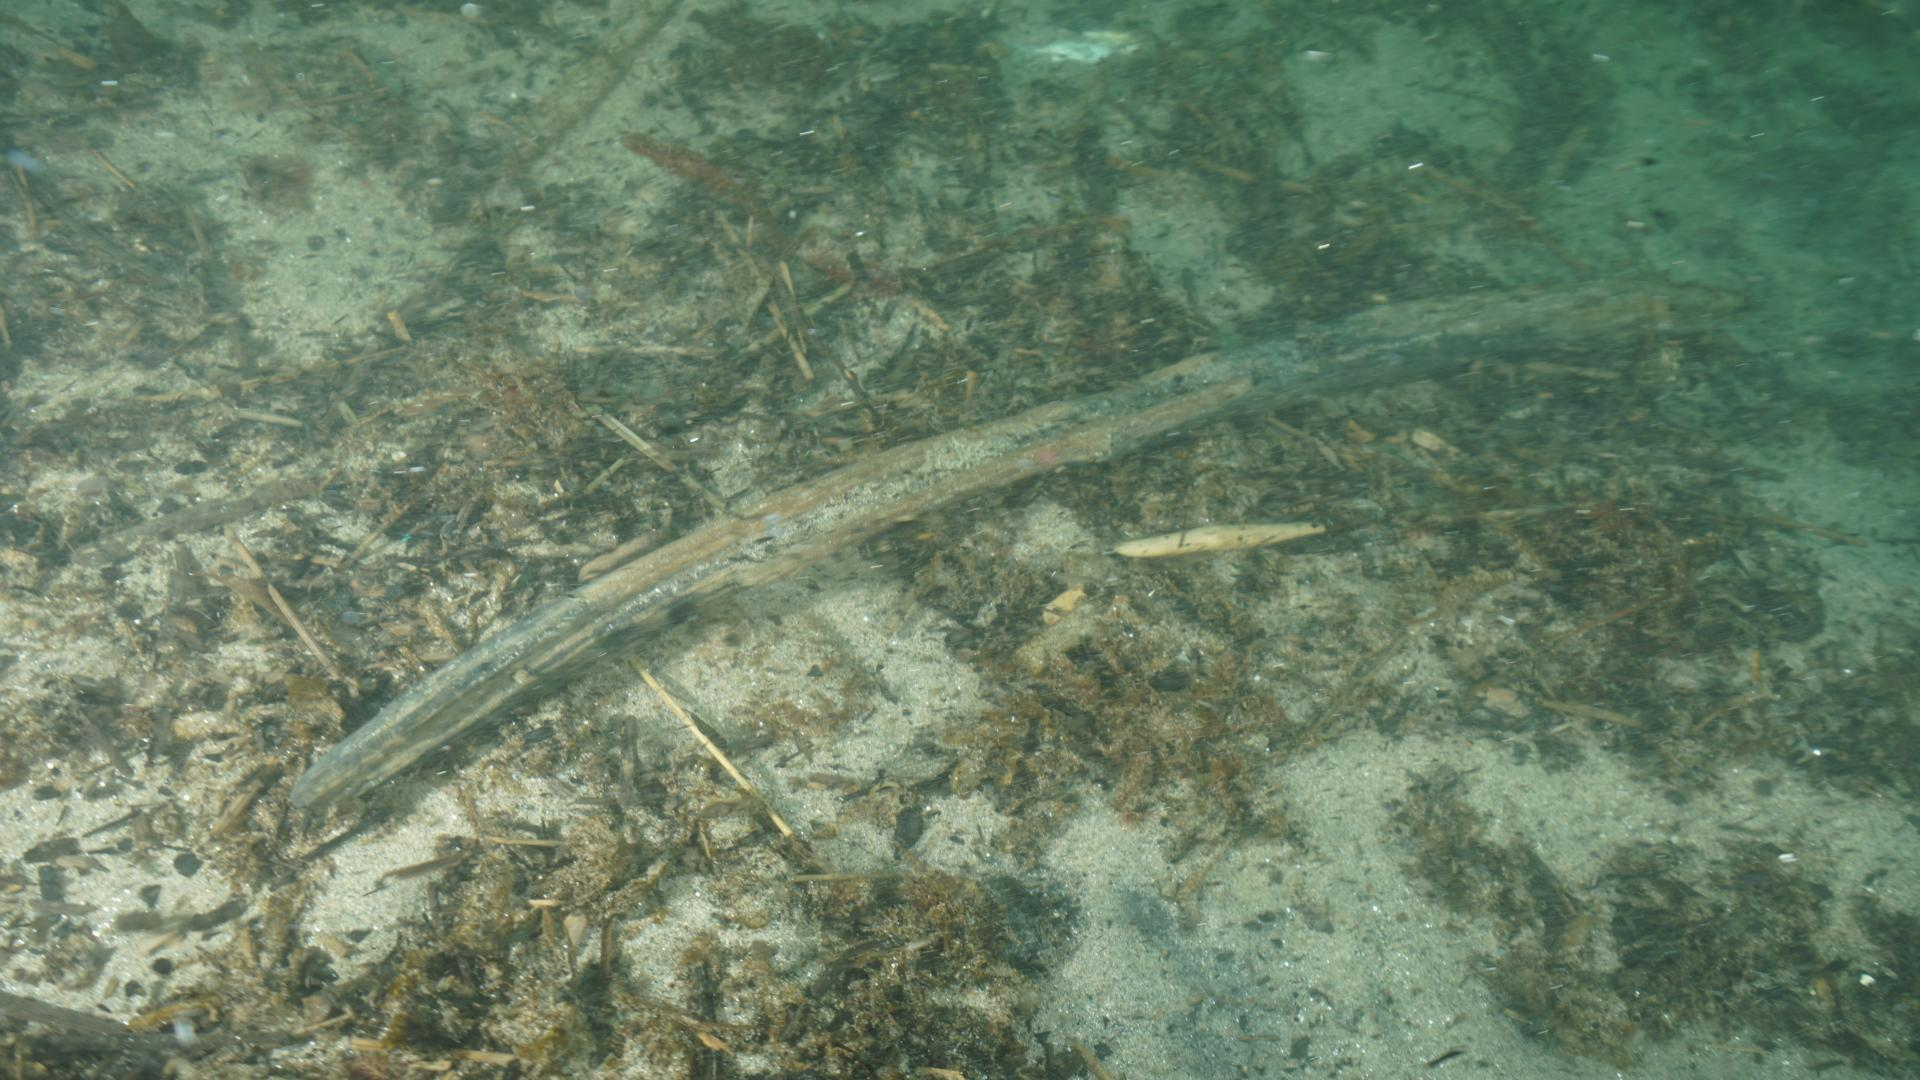wood: (270, 278, 1683, 872)
